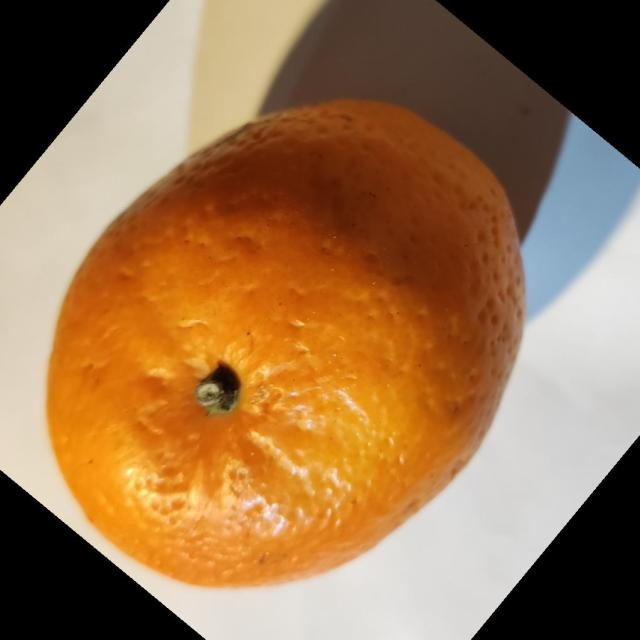agrume: (44, 97, 527, 589)
